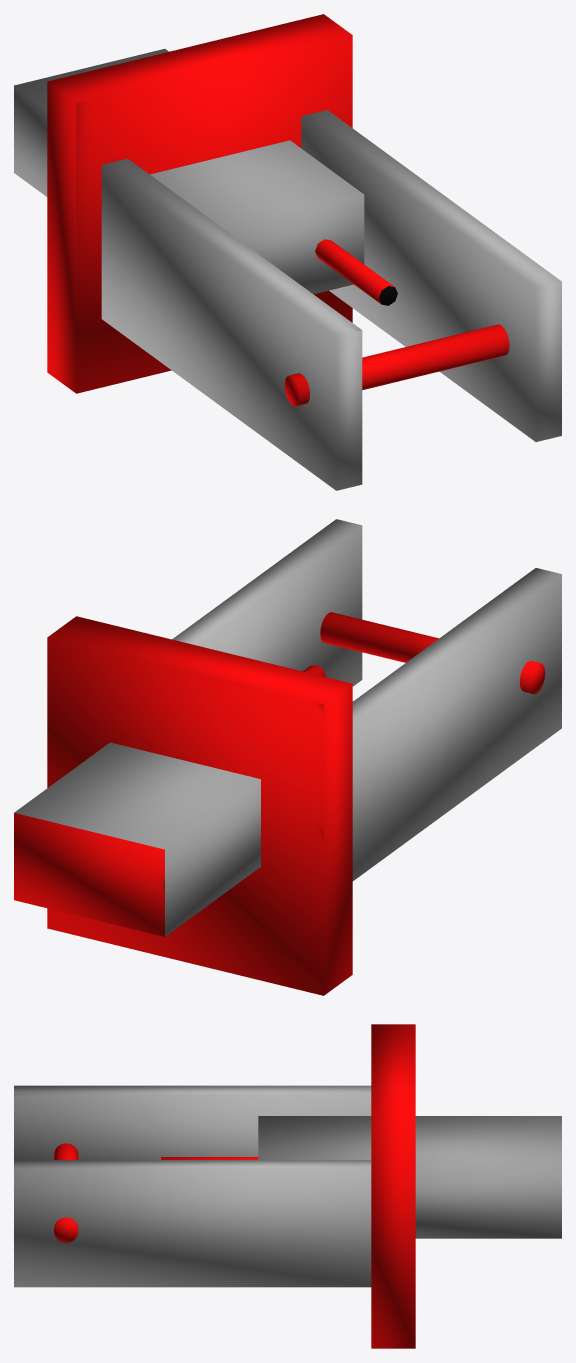
Rendered from sagun.fbx.
3 renders of one model, top to bottom at view 1: azimuth 30°, elevation 25°; view 2: azimuth 150°, elevation 25°; view 3: azimuth 270°, elevation 25°, orthographic. The views are drawn at different scales.
Visible parts, largest first — view 1: Cube, Cube_001; view 2: Cube, Cube_001; view 3: Cube, Cube_001.
Boxes of the visible parts, x1,y1,x2,y2 form: Cube: (47, 14, 561, 490); Cube_001: (14, 48, 397, 305); Cube: (47, 519, 561, 995); Cube_001: (14, 665, 353, 936); Cube: (14, 1024, 415, 1348); Cube_001: (161, 1116, 561, 1238).
Size of the model in its own units: 1.99 by 2 by 4.48.
Materials: 2 (2 with a texture image).
